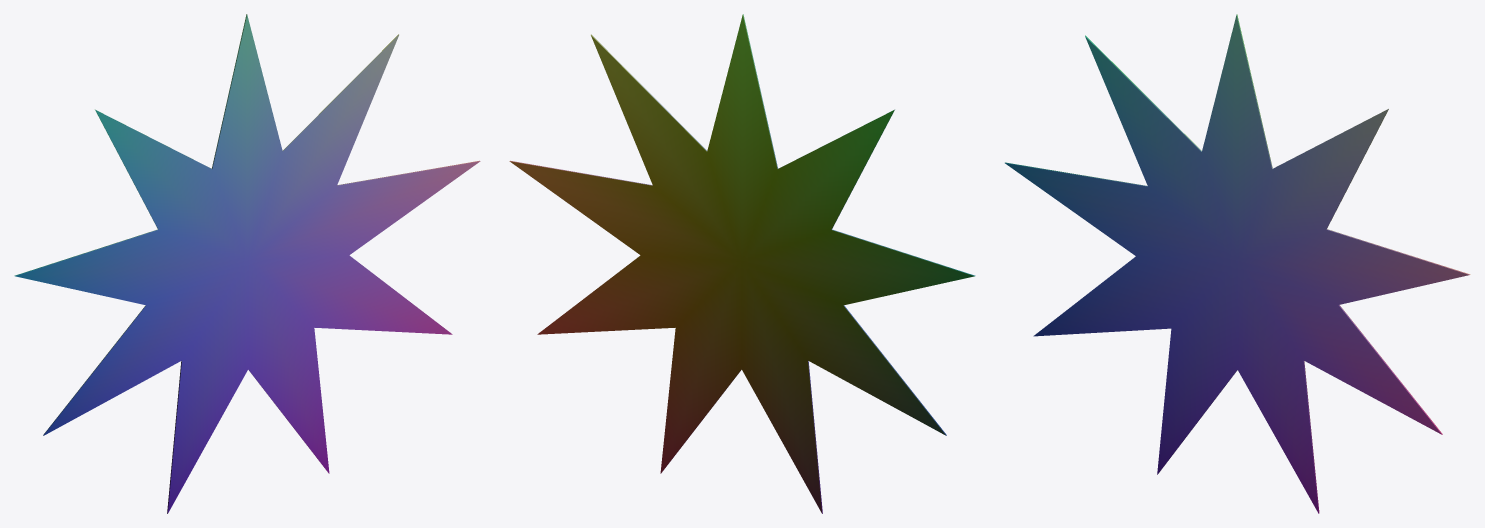
The model's file is zeometry-flat-shapes-flat-star_v11.glb.
3 views of the same model, side by side, from view 1: azimuth 30°, elevation 25°; view 2: azimuth 150°, elevation 25°; view 3: azimuth 330°, elevation 25° (orthographic).
Parts seen in each view (by area): view 1: Flat Star_v11; view 2: Flat Star_v11; view 3: Flat Star_v11.
Boxes of the visible parts, x1,y1,x2,y2 form: Flat Star_v11: [14, 14, 480, 513]; Flat Star_v11: [509, 14, 975, 513]; Flat Star_v11: [1005, 14, 1470, 513].
Size of the model in its own units: 0.5 by 0.4927 by 0.00135.
